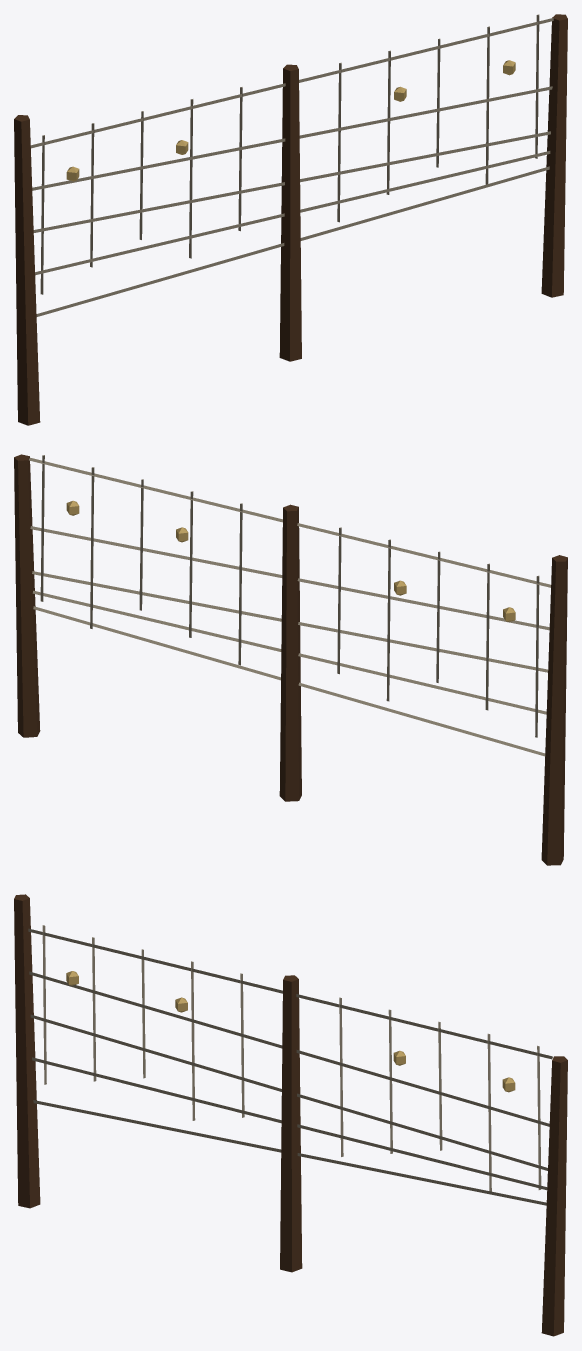
File: br_x_net_posts.glb
3 views of the same model, one above another, from view 1: azimuth 30°, elevation 25°; view 2: azimuth 150°, elevation 25°; view 3: azimuth 330°, elevation 25° (orthographic).
Visible parts, largest first — view 1: br_x_net_posts; view 2: br_x_net_posts; view 3: br_x_net_posts.
Boxes of the visible parts, box(x1,y1,x2,y2) form: br_x_net_posts: box(14, 14, 567, 425); br_x_net_posts: box(14, 454, 567, 865); br_x_net_posts: box(14, 894, 567, 1336).
Bounding box in the file's own units: 3.8 × 2 × 0.1266.
